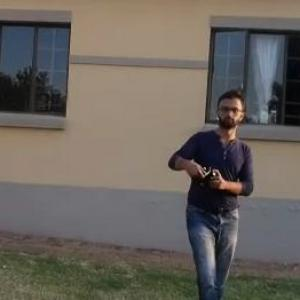follow: (160, 81, 258, 299)
